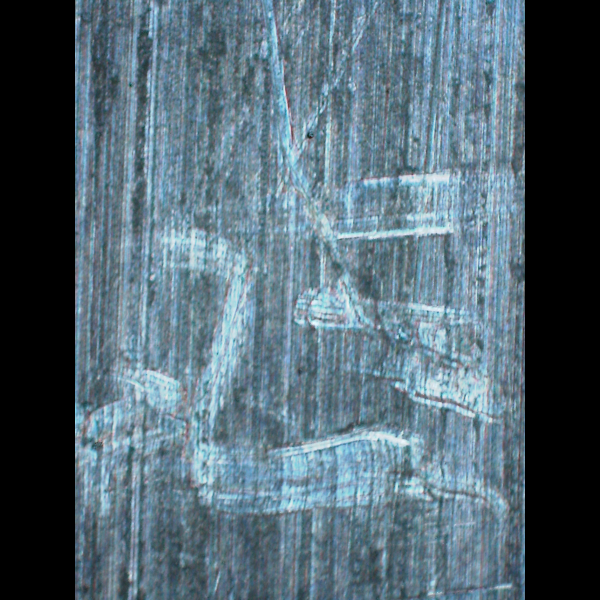d: (74, 111, 516, 582), (228, 0, 408, 294)
